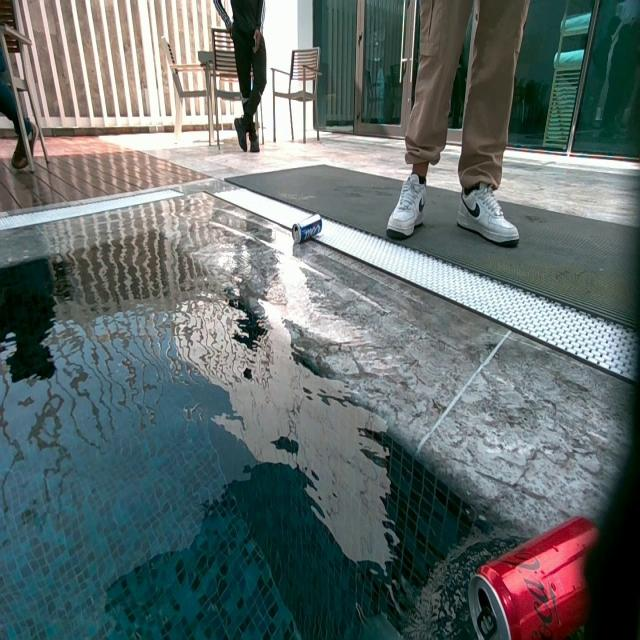Cans: (465, 518, 593, 638), (290, 212, 323, 246)
